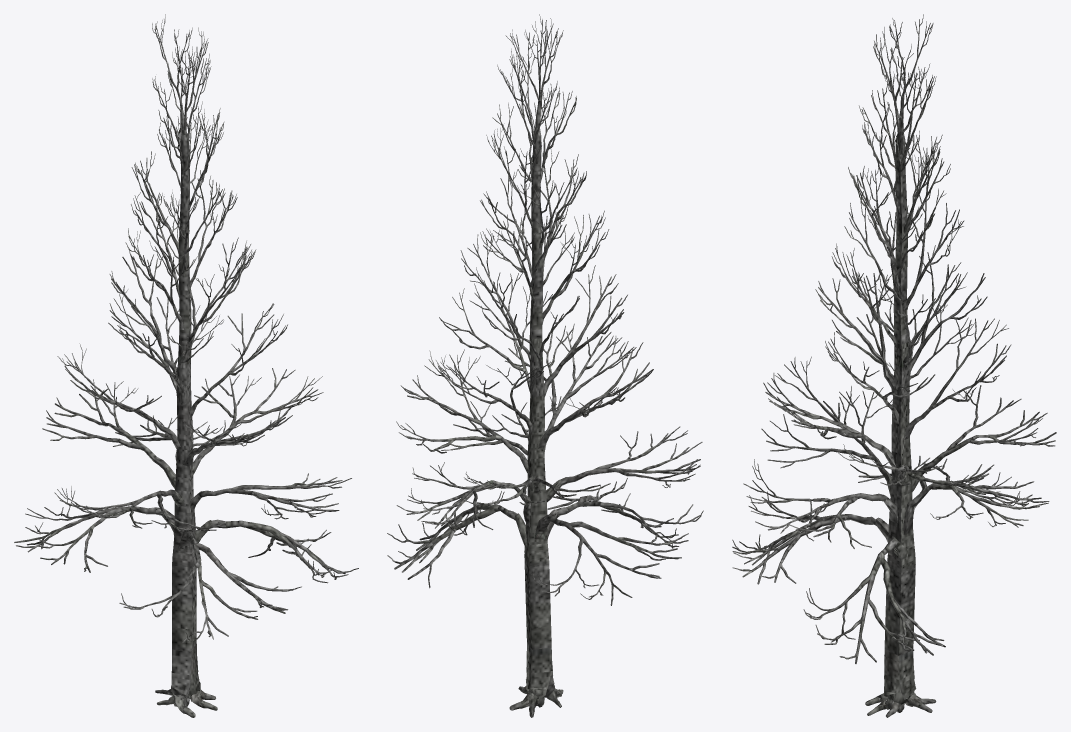
File: Dead_derevo_02.fbx
3 renders of one model, left to right at view 1: azimuth 30°, elevation 25°; view 2: azimuth 150°, elevation 25°; view 3: azimuth 270°, elevation 25°, orthographic.
Visible parts, largest first — view 1: d3; view 2: d3; view 3: d3.
Boxes of the visible parts, <box> form: d3: <box>14,14,358,717</box>; d3: <box>387,14,703,717</box>; d3: <box>732,14,1056,717</box>.
Size of the model in its own units: 68.5 by 153 by 65.32.
